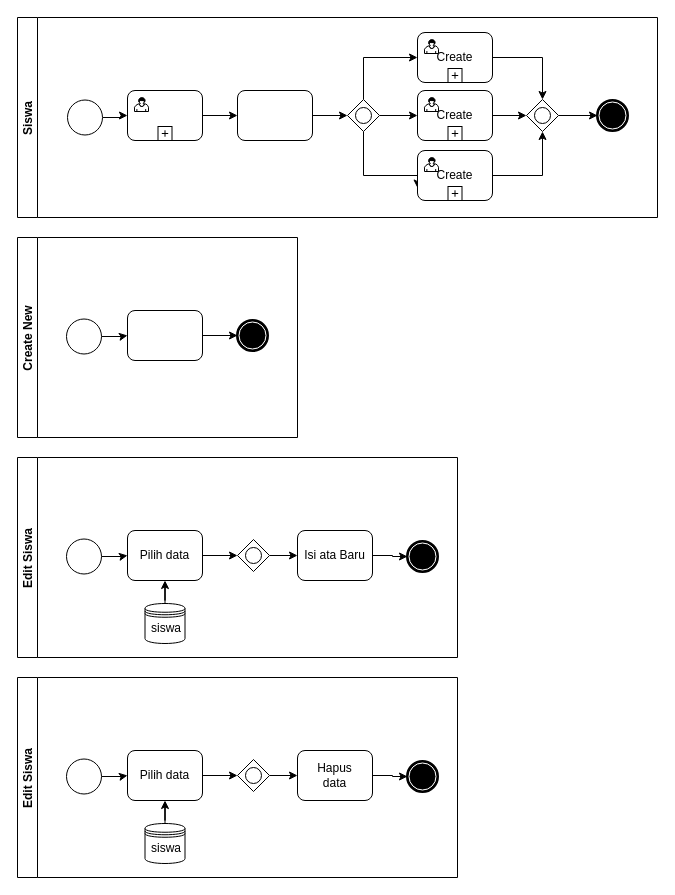
Some shapes in this 675 by 895 pixel diagram are drawn without their labels. Here are the shapes that lost their labels. From the top down, the centre of each, then its label:
[164,115]: Login
[274,115]: Pilih Menu Siswa
[164,335]: Isi data
